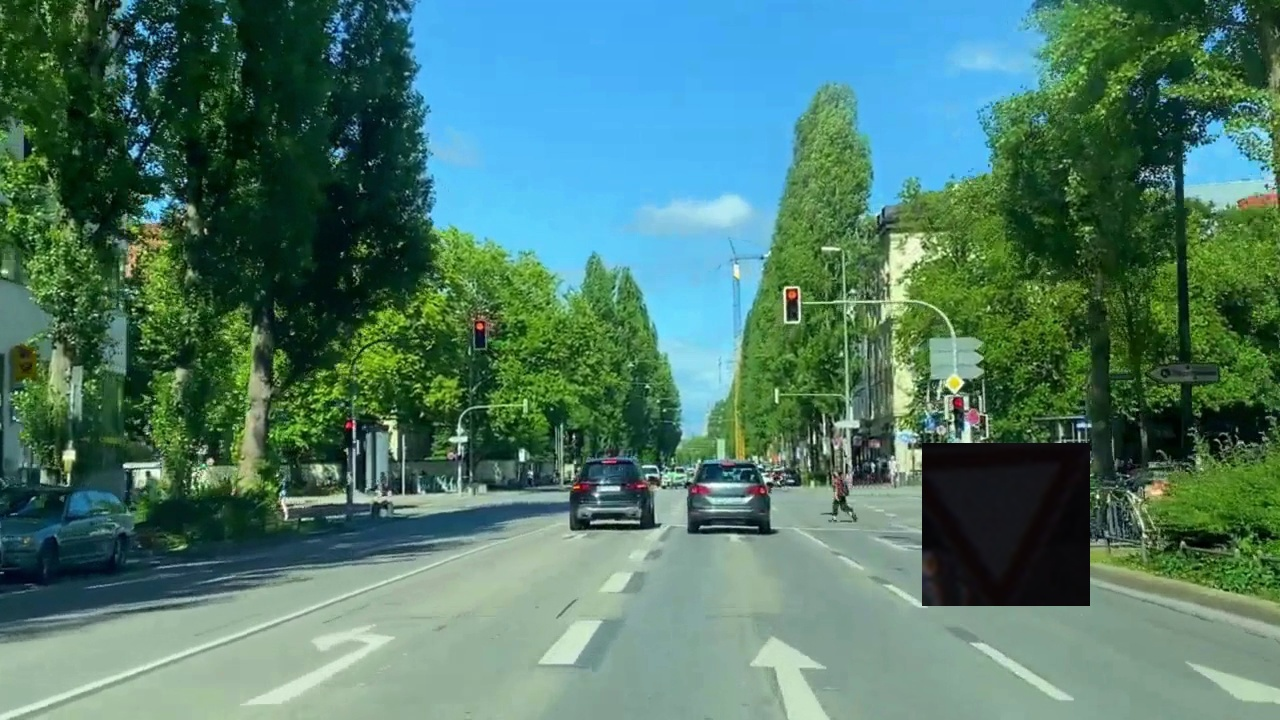Yield: (922, 443, 1090, 606)
